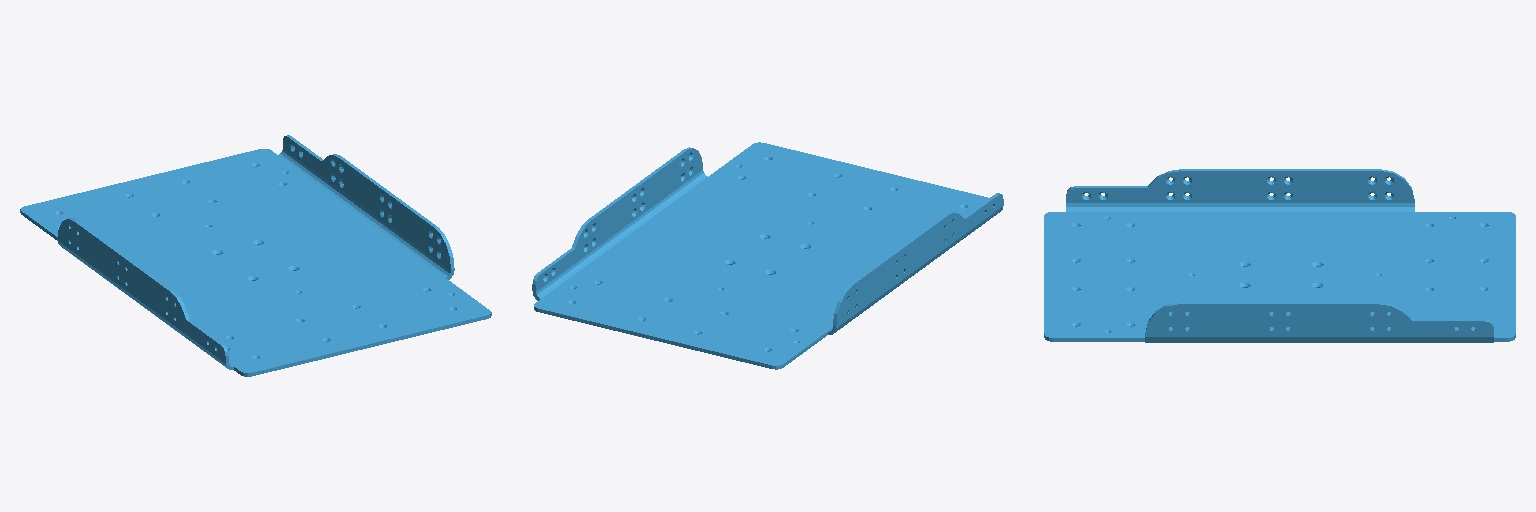
robot.urdf — imr_arm:
<?xml version="1.0"?>
	<robot name="imr_arm">
		<!-- The gazebo plugin must stay inside of the robot model-->
		<link name="world"/>
		<link name="TableTop">
			<visual>
				<origin rpy="0 0 0" xyz="0 0 0" />
				<geometry>
					 <mesh filename="package://imr_arm_description/meshes/TableTop.dae"/>
				</geometry>
			</visual>
<!-- 			<collision>
				<origin rpy="0 0 0" xyz="0 0 0" />
				<geometry>
					<box size="0.1 0.1 0.001"/>
				</geometry>
			</collision> -->
		</link>

		<joint name="world_to_X5-9" type="fixed">
			<parent link="world"/>
			<child link="TableTop"/>
			<origin xyz="0 0 0"/>
		</joint>

		<gazebo reference="TableTop">
			<material>Gazebo/Black</material>
		</gazebo>
	</robot>

--- Render facts (derived) ---
3 views of the same robot in one strip: view 1: azimuth 30°, elevation 25°; view 2: azimuth 150°, elevation 25°; view 3: azimuth 270°, elevation 25° (orthographic).
Model imr_arm with 2 links and 1 joints (1 fixed), rooted at world, posed all joints at 0.
Links seen in each view (by area): view 1: TableTop; view 2: TableTop; view 3: TableTop.
Boxes of the visible links, x1,y1,x2,y2 form: TableTop: [20, 135, 491, 376]; TableTop: [532, 142, 1003, 369]; TableTop: [1044, 169, 1515, 342].
Bounding box of the posed robot: 0.4826 × 0.7112 × 0.0698 m (x, y, z).
Meshes: 1 distinct files referenced, 1 mesh visuals loaded (1 Collada DAE).